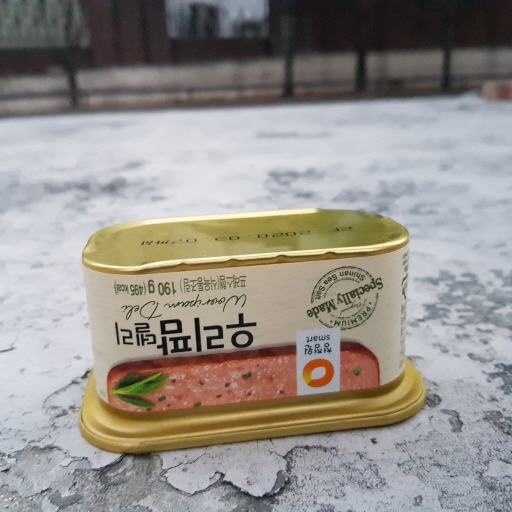Metal_2: (77, 206, 432, 450)
